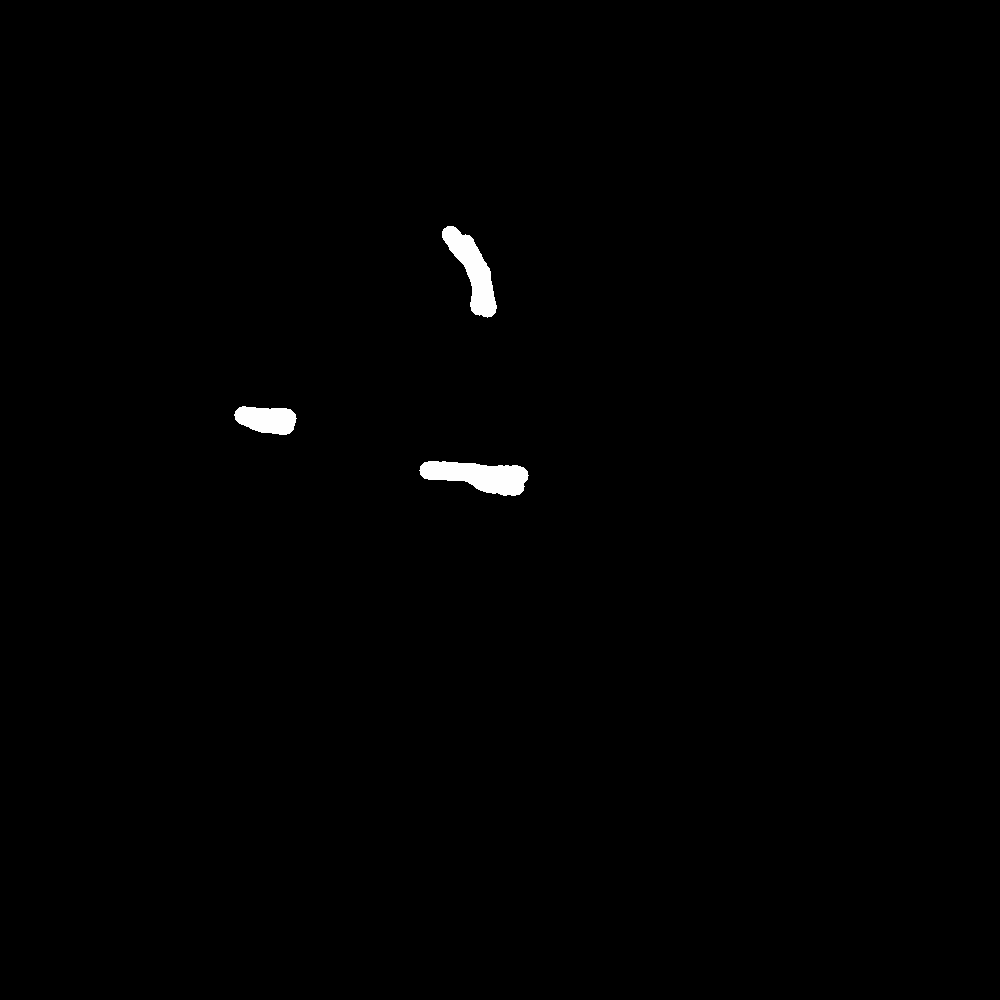illegal: (236, 414, 531, 493), (432, 147, 505, 338)
